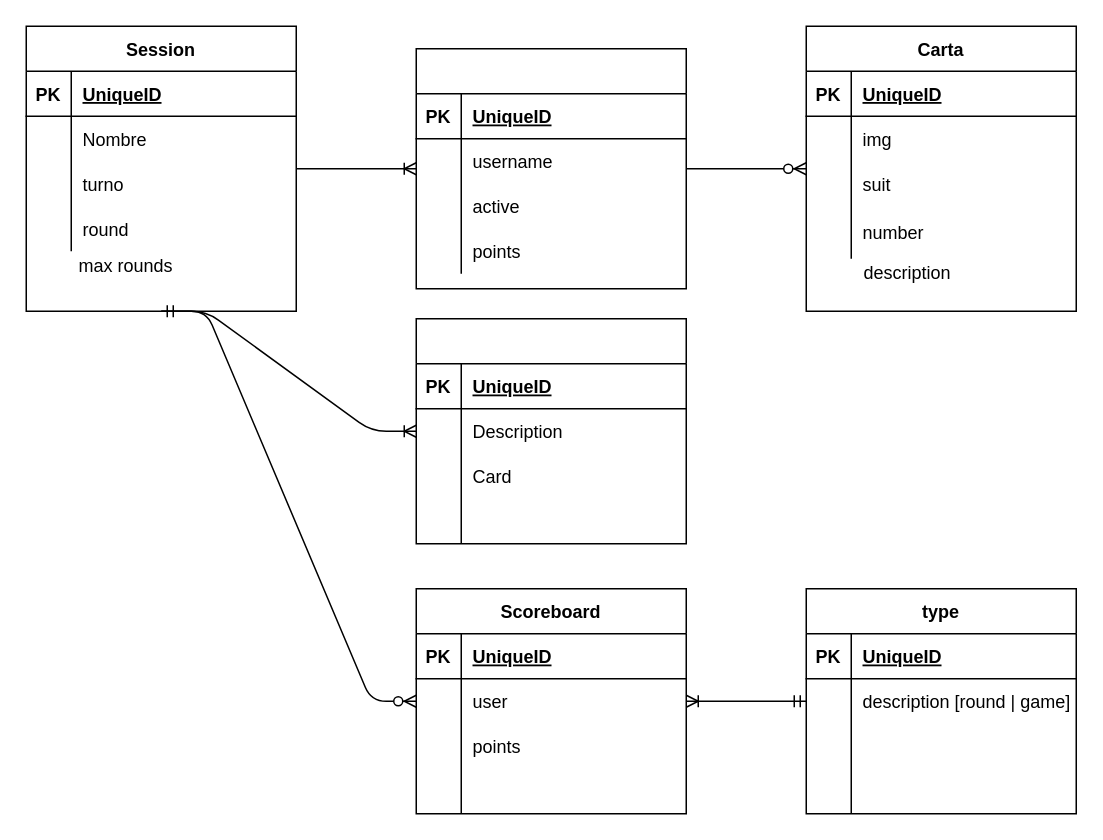
Image size: 1103x840. Some labels were removed from this diagram. The box of each missing label's shape, as (x1, y1, x2, y2) in pixels:
Log: (415, 317, 686, 544)
Usuarios: (415, 47, 686, 289)
